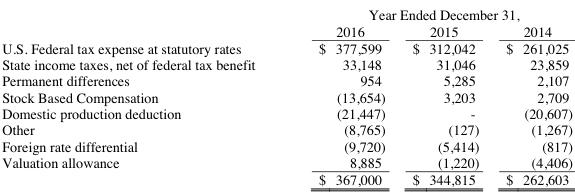table: (1, 1, 572, 190)
table column: (1, 1, 286, 190), (286, 1, 398, 190), (398, 1, 491, 190), (491, 1, 572, 190)
table column header: (1, 1, 572, 38)
table row: (1, 169, 572, 190), (1, 1, 572, 21), (1, 21, 572, 38), (1, 54, 572, 71), (1, 103, 572, 120), (1, 152, 572, 169), (1, 38, 572, 54), (1, 71, 572, 87), (1, 87, 572, 103), (1, 120, 572, 136), (1, 136, 572, 152)
table spanning cell: (286, 1, 572, 21)
